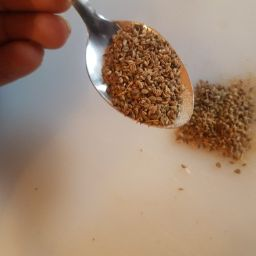Ajwain: (61, 16, 202, 132), (186, 63, 256, 199)
